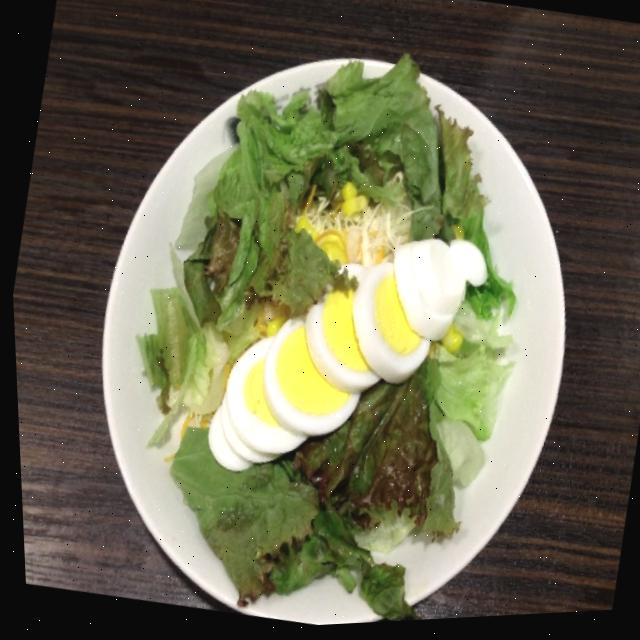蔬菜料理: (40, 7, 620, 638)
